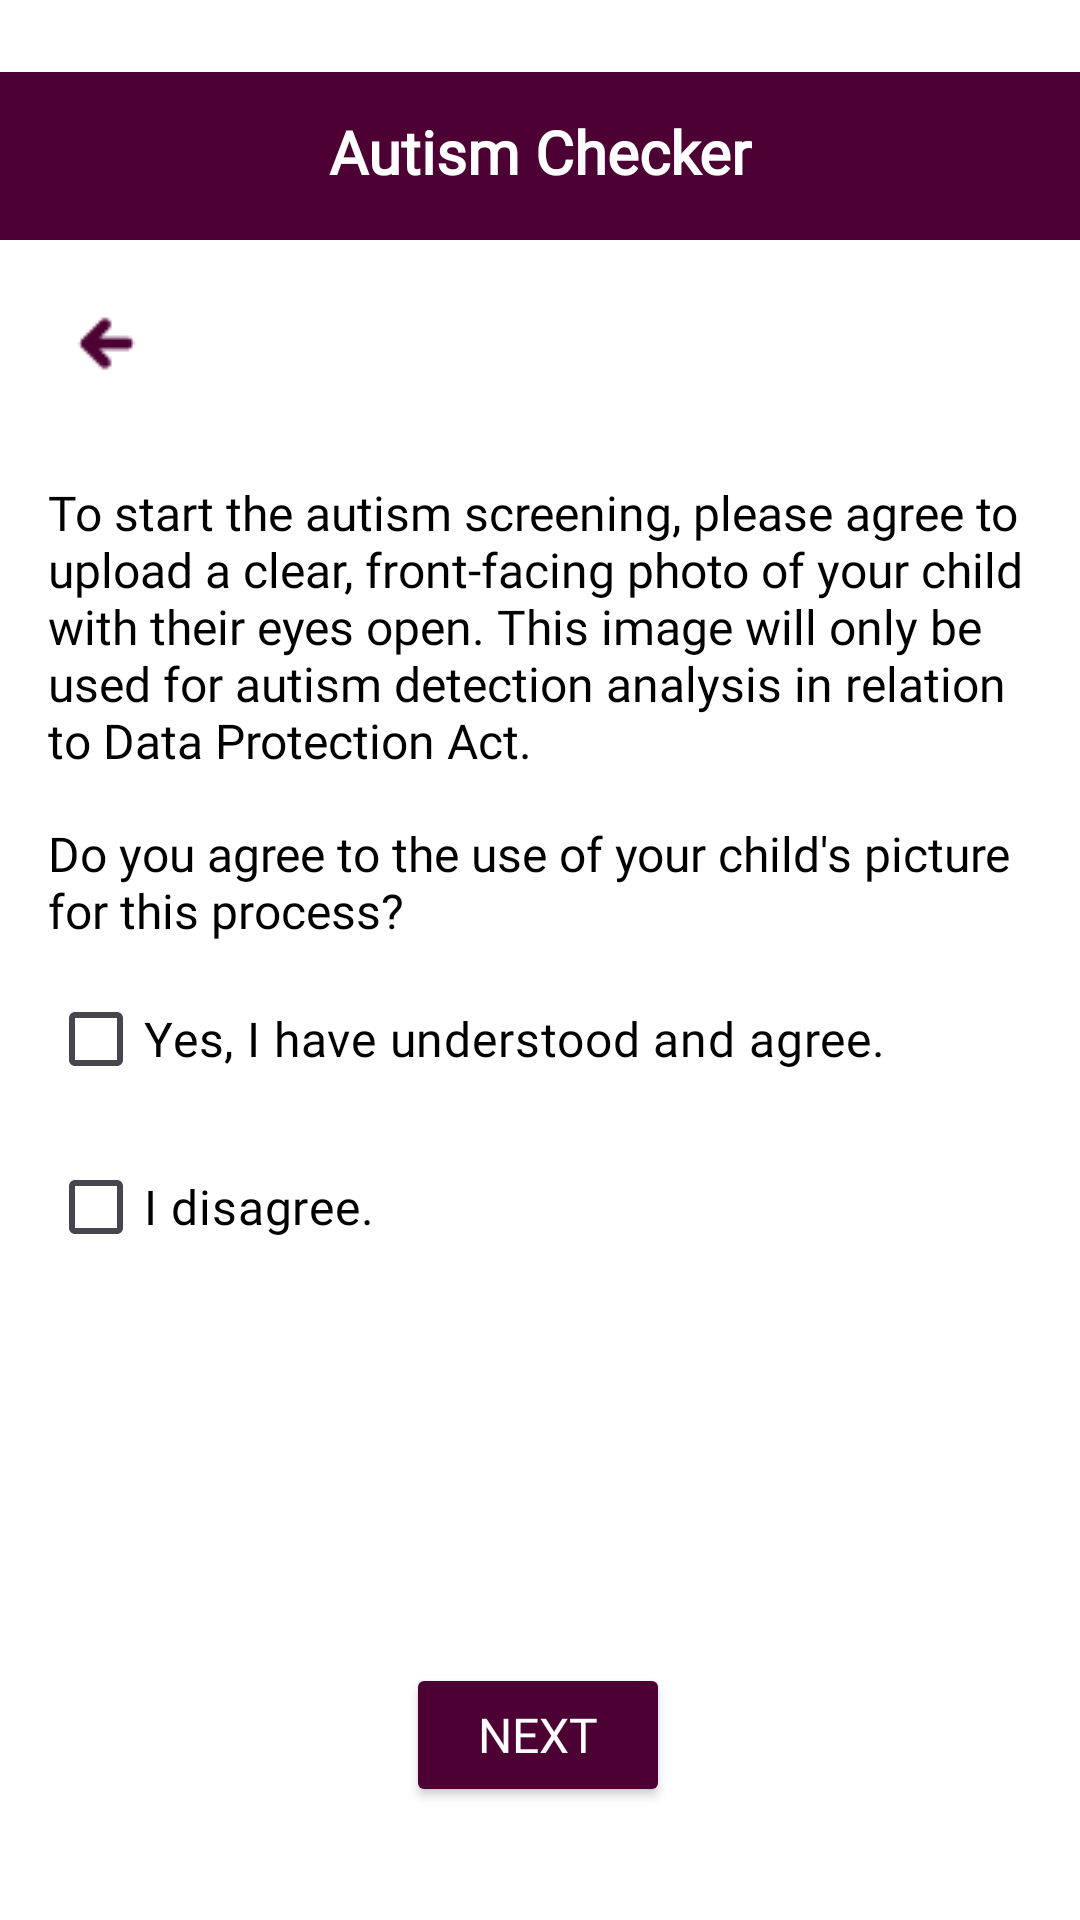

Icon bounding boxes for this 1080px×1920px phone screenshot, format (x1, y1, x2, y2):
backarrow: (78, 317, 135, 370)
